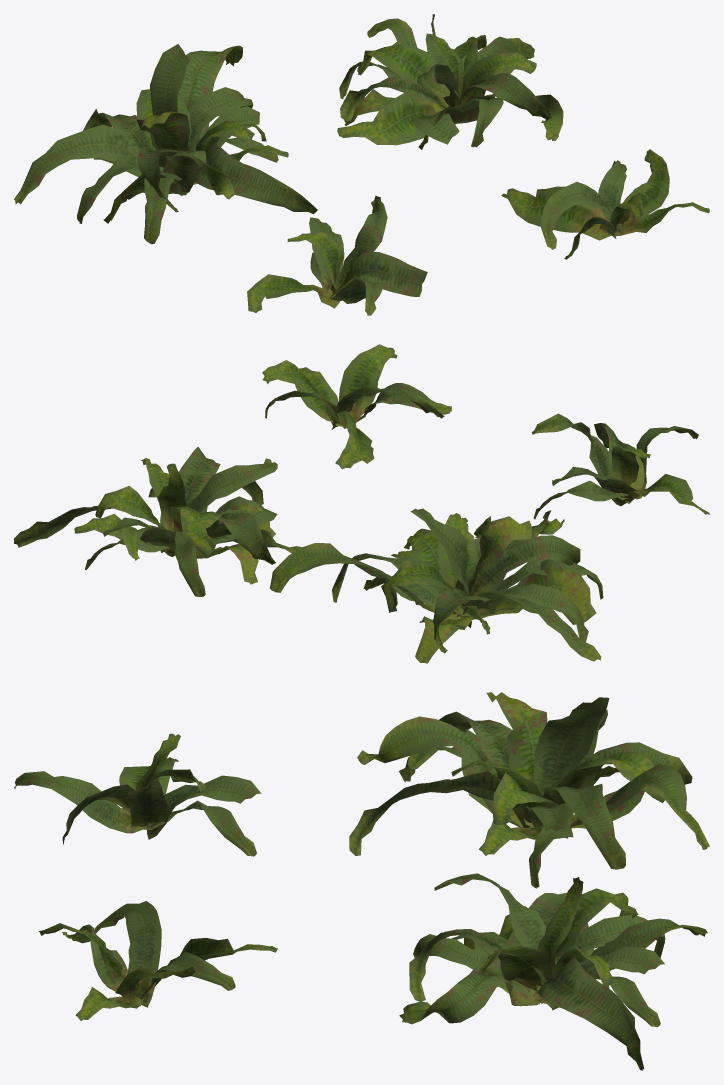
3 renders of one model, top to bottom at view 1: azimuth 30°, elevation 25°; view 2: azimuth 150°, elevation 25°; view 3: azimuth 270°, elevation 25°, orthographic. The views are drawn at different scales.
Parts seen in each view (by area): view 1: fern_02_b, fern_02_c, fern_02_d, fern_02_a; view 2: fern_02_b, fern_02_c, fern_02_d, fern_02_a; view 3: fern_02_b, fern_02_c, fern_02_a, fern_02_d.
Boxes of the visible parts, x1,y1,x2,y2 form: fern_02_b: (14, 44, 317, 244); fern_02_c: (337, 14, 563, 149); fern_02_d: (501, 149, 709, 259); fern_02_a: (247, 196, 427, 315); fern_02_b: (270, 508, 603, 663); fern_02_c: (14, 447, 301, 596); fern_02_d: (262, 344, 451, 469); fern_02_a: (531, 413, 709, 519); fern_02_b: (349, 692, 709, 888); fern_02_c: (399, 873, 707, 1070); fern_02_a: (14, 733, 261, 856); fern_02_d: (39, 901, 277, 1020).
Bounding box in the file's own units: 1.97 × 0.4277 × 1.72.
1 material, 1 textured.
